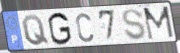7: (97, 9, 117, 43)
C: (75, 12, 95, 44)
G: (47, 11, 74, 47)
M: (142, 5, 176, 41)
Q: (21, 14, 51, 47)
S: (121, 8, 147, 42)
